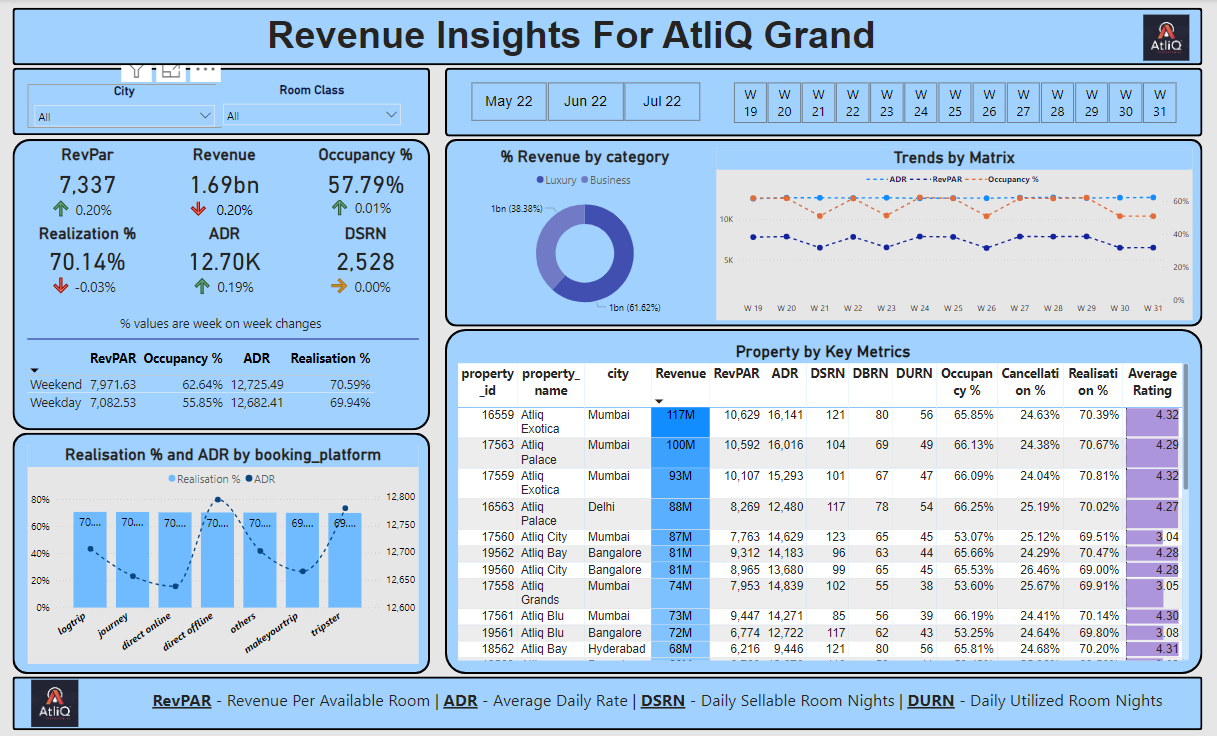

Layout of this report page (visuals, bound fields, positions):
{"tool":"powerbi","page":{"name":"Dashboard","canvas":[1800,1100],"ordinal":0},"visuals":[{"type":"shape","box":[656.2,486.3,1117,508.7],"z":0},{"type":"shape","box":[656.2,207.2,1117,276.5],"z":1000},{"type":"shape","box":[656.2,101.4,1117,101.4],"z":2000},{"type":"shape","box":[18.4,639.6,615.6,355.7],"z":3000},{"type":"tableEx","title":"Property by Key Metrics","fields":{"Values":["dim_hotels.property_id","dim_hotels.property_name","dim_hotels.city","key_measures.Revenue","key_measures.RevPAR","key_measures.ADR","key_measures.DSRN","key_measures.DBRN","key_measures.DURN","key_measures.Occupancy %","key_measures.Cancellation %","key_measures.Realisation %"]},"box":[669.1,504.7,1089.3,475.5],"z":4000},{"type":"shape","box":[18.4,206.4,615.6,429.5],"z":5000},{"type":"shape","box":[18.4,101.4,615.6,99.5],"z":6000},{"type":"slicer","title":"City","fields":{"Values":["dim_hotels.city"]},"box":[40.5,125.3,285.7,64.5],"z":7000},{"type":"slicer","title":"Room Class","fields":{"Values":["dim_rooms.room_class"]},"box":[318.9,124.1,282,64.5],"z":8000},{"type":"slicer","fields":{"Values":["dim_date.mmm yy"]},"box":[669.1,115.3,387.1,70],"z":9000},{"type":"slicer","fields":{"Values":["dim_date.week no"]},"box":[1056.1,115.3,702.2,70],"z":10000},{"type":"donutChart","title":"% Revenue by category","fields":{"Category":["dim_hotels.category"],"Y":["key_measures.Revenue"]},"box":[669.1,216.6,387.1,256.2],"z":11000},{"type":"tableEx","fields":{"Values":["key_measures.DSRN WoW change %"]},"box":[477.4,383.4,123.5,77.4],"z":12000},{"type":"lineChart","title":"Trends by Matrix","fields":{"Category":["dim_date.date.Variation.Date Hierarchy.Month","dim_date.week no"],"Y":["key_measures.ADR","key_measures.RevPAR"],"Y2":["key_measures.Occupancy %"]},"box":[1056.1,218.5,702.2,254.4],"z":13000},{"type":"lineStackedColumnComboChart","fields":{"Category":["fact_bookings.booking_platform"],"Y":["key_measures.Realisation %"],"Y2":["key_measures.ADR"]},"box":[40.5,658,576.9,322.6],"z":14000},{"type":"tableEx","fields":{"Values":["dim_date.day type","key_measures.RevPAR","key_measures.Occupancy %","key_measures.ADR","key_measures.Realisation %"]},"box":[33.2,512.4,584.3,99.5],"z":15000},{"type":"shape","box":[18.4,999,1754.7,79.3],"z":16000},{"type":"shape","box":[18.4,12.9,1754.7,84.8],"z":17000},{"type":"textbox","box":[180.6,1011.9,1577.8,51.6],"z":18000},{"type":"image","box":[33.2,999,95.8,79.3],"z":19000},{"type":"image","box":[1681,16.6,77.4,81.1],"z":20000},{"type":"textbox","box":[248.8,16.6,1187,81.1],"z":21000},{"type":"textbox","box":[33.2,460.8,584.3,44.2],"z":22000},{"type":"shape","box":[40.5,490.3,576.9,22.1],"z":23000},{"type":"tableEx","fields":{"Values":["key_measures.Revenue WoW change %"]},"box":[269.1,269.1,143.8,62.7],"z":24000},{"type":"tableEx","fields":{"Values":["key_measures.ADR WoW change %"]},"box":[274.6,383.4,138.2,82.9],"z":25000},{"type":"tableEx","fields":{"Values":["key_measures.Realisation WoW change %"]},"box":[66.4,383.4,138.2,82.9],"z":26000},{"type":"tableEx","fields":{"Values":["key_measures.Occupancy WoW change %"]},"box":[477.4,267.3,140.1,79.3],"z":27000},{"type":"card","title":"Revenue","fields":{"Values":["key_measures.Revenue"]},"box":[248.8,215.7,164,82.9],"z":28000},{"type":"card","title":"ADR","fields":{"Values":["key_measures.ADR"]},"box":[248.8,331.8,164,75.6],"z":29000},{"type":"card","title":"DSRN","fields":{"Values":["key_measures.DSRN"]},"box":[460.8,331.8,156.7,75.6],"z":30000},{"type":"card","title":"Occupancy %","fields":{"Values":["key_measures.Occupancy %"]},"box":[460.8,215.7,156.7,81.1],"z":31000},{"type":"tableEx","fields":{"Values":["key_measures.Revpar WoW change %"]},"box":[66.4,269.1,118,82.9],"z":32000},{"type":"card","title":"RevPar","fields":{"Values":["key_measures.RevPAR"]},"box":[33.2,215.7,191.7,81.1],"z":33000},{"type":"card","title":"Realization %","fields":{"Values":["key_measures.Realisation %"]},"box":[33.2,331.8,191.7,75.6],"z":34000}]}

Visuals, with their boxes in screenshot pixels (x1, y1, x2, y2), scaled from the page's 1800x1100 canvas onto the 1217x736 screenshot:
shape: bbox=(444, 325, 1199, 666)
shape: bbox=(444, 139, 1199, 324)
shape: bbox=(444, 68, 1199, 136)
shape: bbox=(12, 428, 429, 666)
"Property by Key Metrics" tableEx: bbox=(452, 338, 1189, 656)
shape: bbox=(12, 138, 429, 425)
shape: bbox=(12, 68, 429, 134)
"City" slicer: bbox=(27, 84, 221, 127)
"Room Class" slicer: bbox=(216, 83, 406, 126)
slicer - dim_date.mmm yy: bbox=(452, 77, 714, 124)
slicer - dim_date.week no: bbox=(714, 77, 1189, 124)
"% Revenue by category" donutChart: bbox=(452, 145, 714, 316)
tableEx - key_measures.DSRN WoW change %: bbox=(323, 257, 406, 308)
"Trends by Matrix" lineChart: bbox=(714, 146, 1189, 316)
lineStackedColumnComboChart - fact_bookings.booking_platform x key_measures.Realisation %: bbox=(27, 440, 417, 656)
tableEx - dim_date.day type x key_measures.RevPAR: bbox=(22, 343, 417, 409)
shape: bbox=(12, 668, 1199, 721)
shape: bbox=(12, 9, 1199, 65)
textbox: bbox=(122, 677, 1189, 712)
image: bbox=(22, 668, 87, 721)
image: bbox=(1137, 11, 1189, 65)
textbox: bbox=(168, 11, 971, 65)
textbox: bbox=(22, 308, 417, 338)
shape: bbox=(27, 328, 417, 343)
tableEx - key_measures.Revenue WoW change %: bbox=(182, 180, 279, 222)
tableEx - key_measures.ADR WoW change %: bbox=(186, 257, 279, 312)
tableEx - key_measures.Realisation WoW change %: bbox=(45, 257, 138, 312)
tableEx - key_measures.Occupancy WoW change %: bbox=(323, 179, 417, 232)
"Revenue" card: bbox=(168, 144, 279, 200)
"ADR" card: bbox=(168, 222, 279, 273)
"DSRN" card: bbox=(312, 222, 417, 273)
"Occupancy %" card: bbox=(312, 144, 417, 199)
tableEx - key_measures.Revpar WoW change %: bbox=(45, 180, 125, 236)
"RevPar" card: bbox=(22, 144, 152, 199)
"Realization %" card: bbox=(22, 222, 152, 273)
